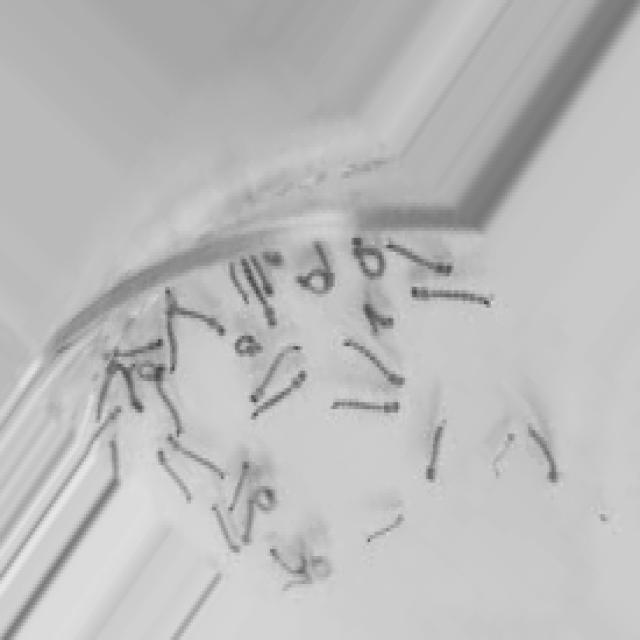larvas: (244, 329, 308, 408), (165, 422, 232, 489), (246, 368, 310, 431), (239, 259, 285, 339), (346, 339, 402, 389), (385, 240, 452, 275), (248, 242, 278, 306), (221, 258, 255, 313), (412, 285, 489, 309), (157, 454, 191, 506), (532, 431, 558, 484), (424, 420, 446, 482), (158, 373, 182, 428), (332, 398, 400, 417), (213, 503, 238, 552), (178, 303, 223, 330), (115, 367, 142, 411), (352, 240, 383, 277), (494, 432, 516, 481), (366, 516, 402, 545), (272, 546, 310, 572), (165, 289, 176, 370), (298, 268, 332, 294), (111, 342, 164, 358), (363, 300, 391, 330), (96, 367, 111, 421), (230, 460, 246, 510), (263, 245, 287, 275), (235, 329, 261, 356), (280, 571, 310, 594), (311, 242, 335, 270), (254, 487, 275, 514), (136, 361, 160, 382), (242, 494, 252, 544), (310, 559, 330, 580)
